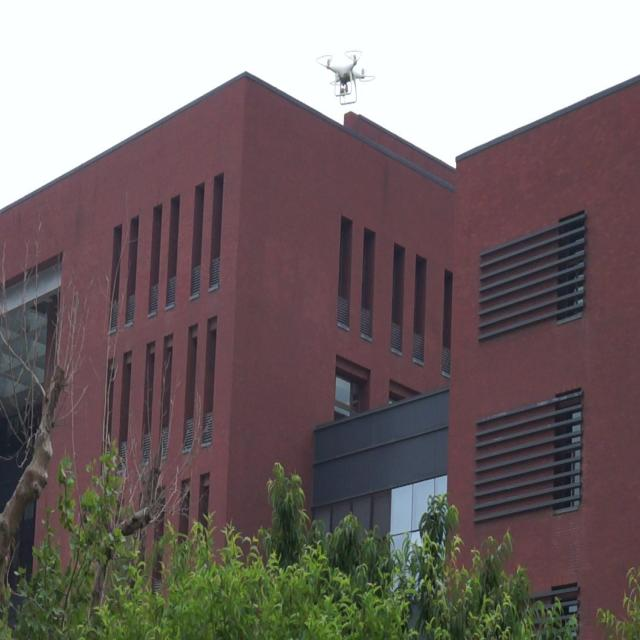drone: (314, 46, 376, 113)
